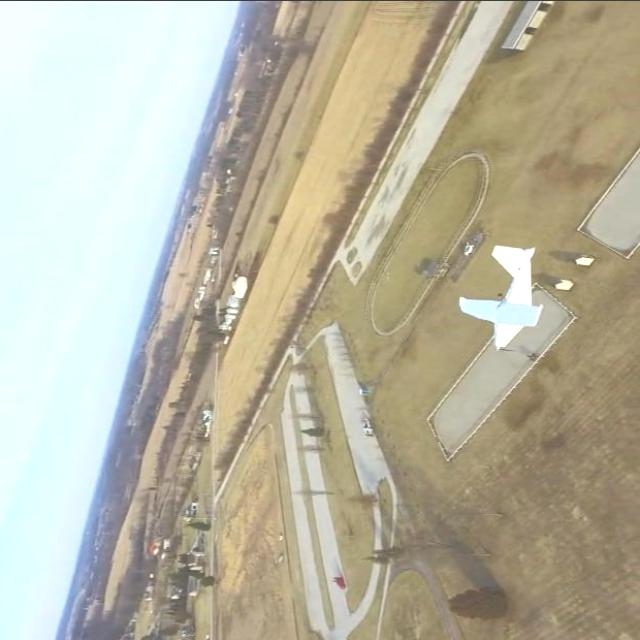plane: (458, 244, 544, 354)
